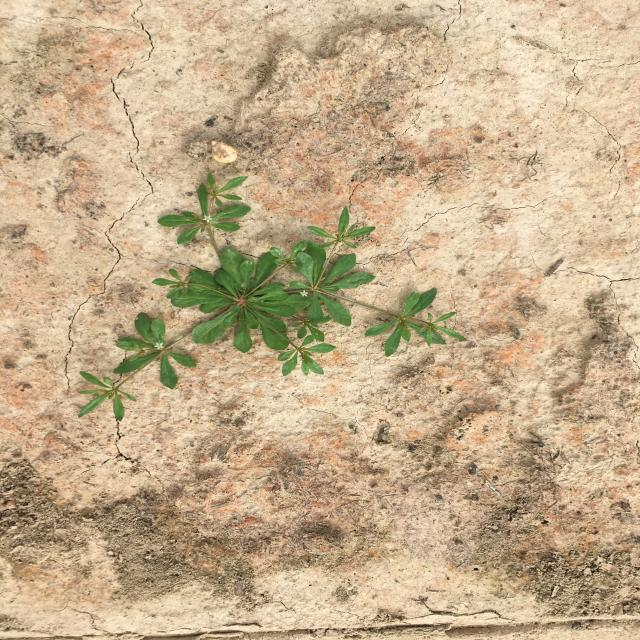Carpetweed: (78, 173, 468, 421)
